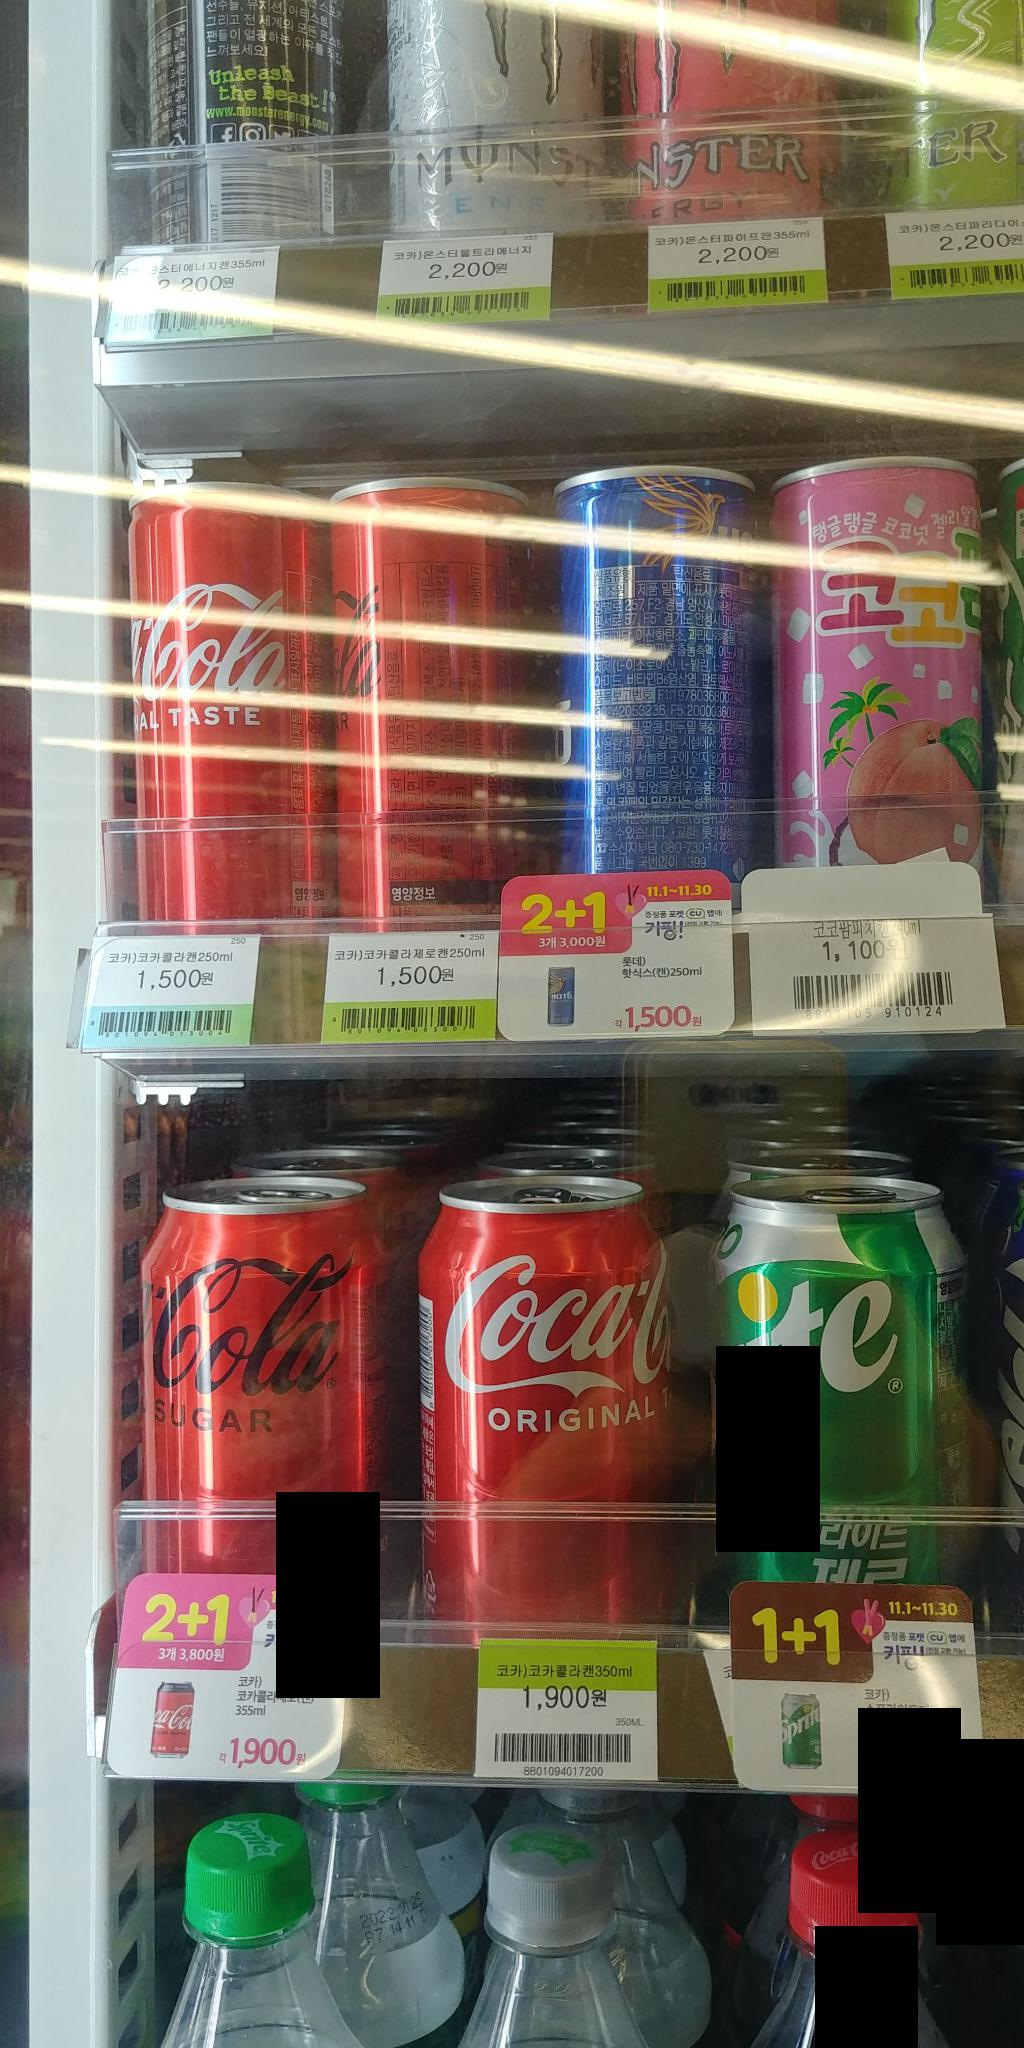cocacola: (400, 1162, 684, 1656)
cocacola_zero: (324, 451, 559, 916)
hotsix_org: (538, 456, 771, 891)
